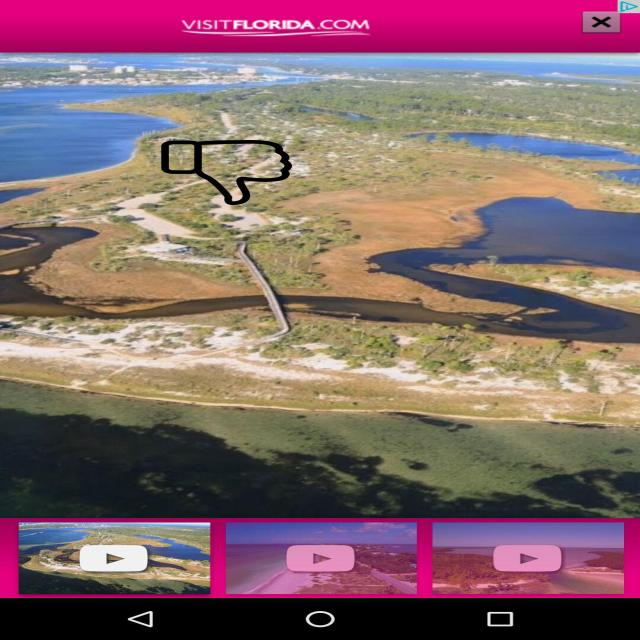obstruction: (159, 140, 294, 205)
